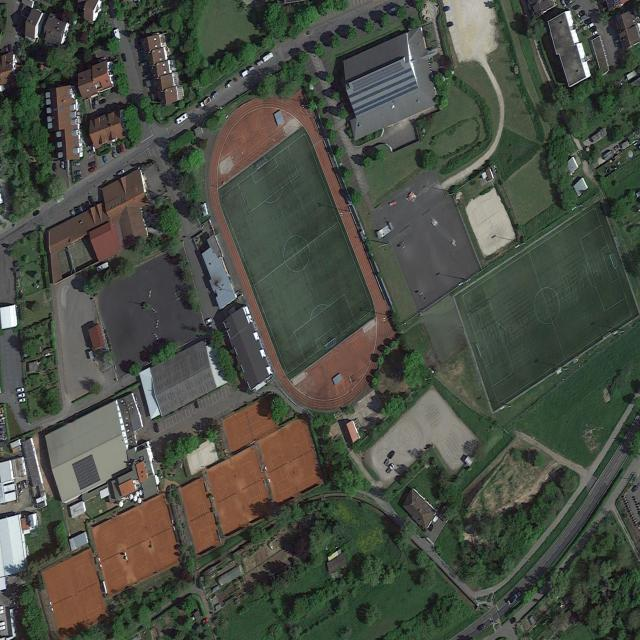large-vehicle: (507, 590, 522, 607)
small-vehicle: (200, 96, 211, 108), (225, 79, 235, 90), (387, 463, 395, 476), (477, 623, 486, 632), (117, 168, 125, 178), (211, 91, 219, 101), (388, 450, 396, 460), (74, 206, 81, 217), (89, 165, 98, 173), (98, 97, 107, 105), (32, 209, 40, 218), (587, 21, 595, 30), (509, 615, 516, 625), (631, 484, 638, 494), (70, 210, 76, 221), (154, 421, 159, 434), (584, 17, 592, 25), (442, 4, 450, 12), (87, 161, 96, 168), (88, 196, 95, 205), (590, 24, 597, 33), (428, 523, 435, 532), (121, 52, 127, 62), (85, 200, 91, 210), (592, 29, 599, 37), (581, 13, 588, 21), (389, 7, 397, 14), (206, 317, 213, 325), (78, 204, 84, 213), (81, 202, 87, 211), (112, 149, 117, 159), (447, 20, 454, 27), (573, 3, 580, 10), (614, 37, 621, 44), (18, 392, 25, 399), (206, 323, 213, 330), (16, 387, 24, 393), (116, 145, 121, 154), (53, 161, 57, 172), (429, 367, 435, 374), (579, 9, 585, 16), (99, 56, 106, 62), (202, 618, 209, 624), (120, 143, 124, 153), (103, 156, 108, 164), (195, 401, 199, 410), (73, 162, 80, 167), (19, 398, 26, 403), (74, 171, 82, 175), (92, 99, 95, 109), (140, 62, 146, 67), (74, 175, 81, 179), (61, 160, 64, 169), (95, 96, 98, 105), (64, 161, 67, 169)
